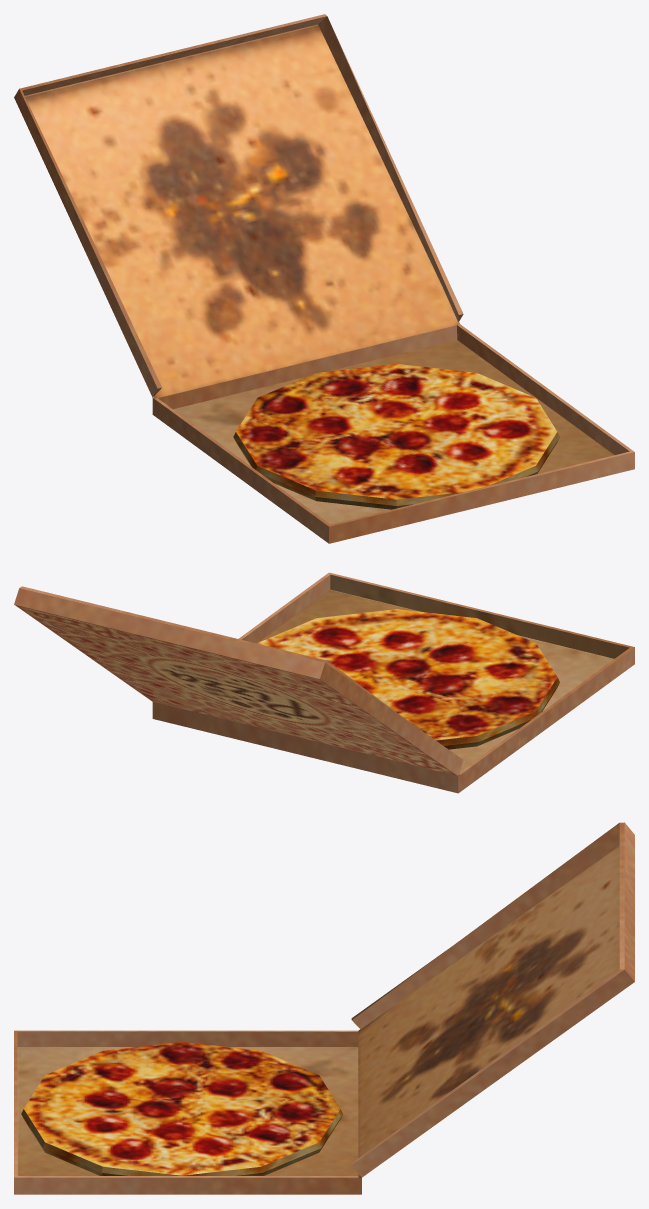
File: pizza_full.obj
3 views of the same model, one above another, from view 1: azimuth 30°, elevation 25°; view 2: azimuth 150°, elevation 25°; view 3: azimuth 270°, elevation 25° (orthographic).
Visible parts, largest first — view 1: pizza_full; view 2: pizza_full; view 3: pizza_full.
Part boxes in pixels (box(x1,y1,x2,y2)): pizza_full: box(14, 14, 634, 543); pizza_full: box(14, 572, 634, 793); pizza_full: box(14, 822, 634, 1194).
Size of the model in its own units: 0.5276 by 0.3762 by 0.9413.
